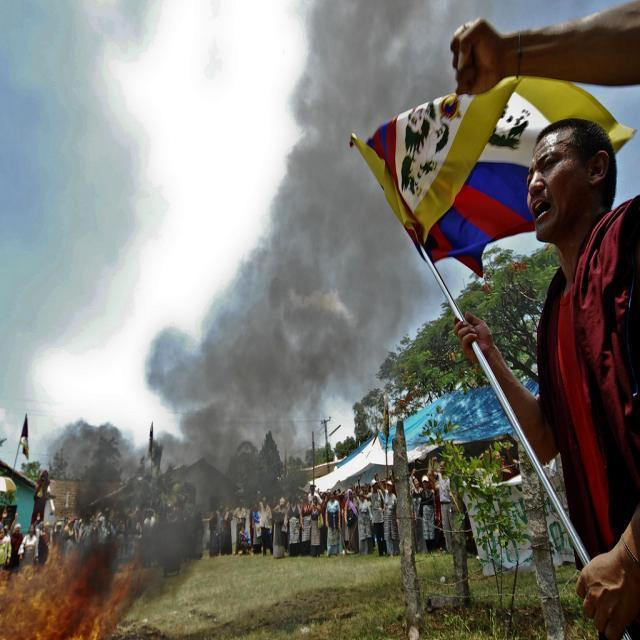Fire: (0, 530, 139, 640)
Smoke: (132, 0, 454, 502)
